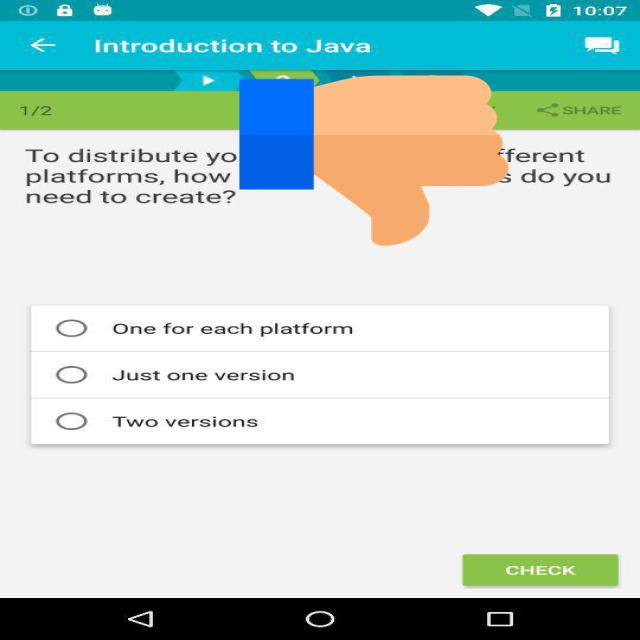obstruction: (240, 71, 508, 250)
